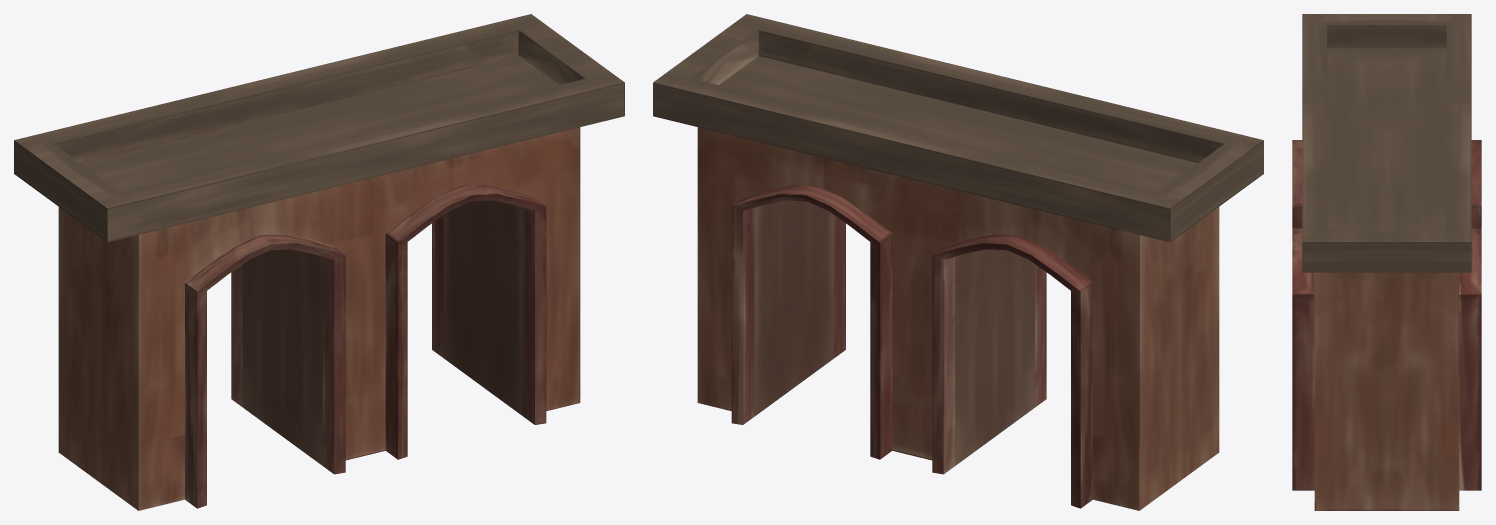
File: sütun.fbx
3 renders of one model, left to right at view 1: azimuth 30°, elevation 25°; view 2: azimuth 150°, elevation 25°; view 3: azimuth 270°, elevation 25°, orthographic. The views are drawn at different scales.
Visible parts, largest first — view 1: sütun; view 2: sütun; view 3: sütun.
Boxes of the visible parts, x1,y1,x2,y2 form: sütun: [14, 14, 624, 510]; sütun: [653, 14, 1263, 510]; sütun: [1292, 14, 1481, 510].
Size of the model in its own units: 1686 by 986 by 591.
Materials: 1 (1 with a texture image).
